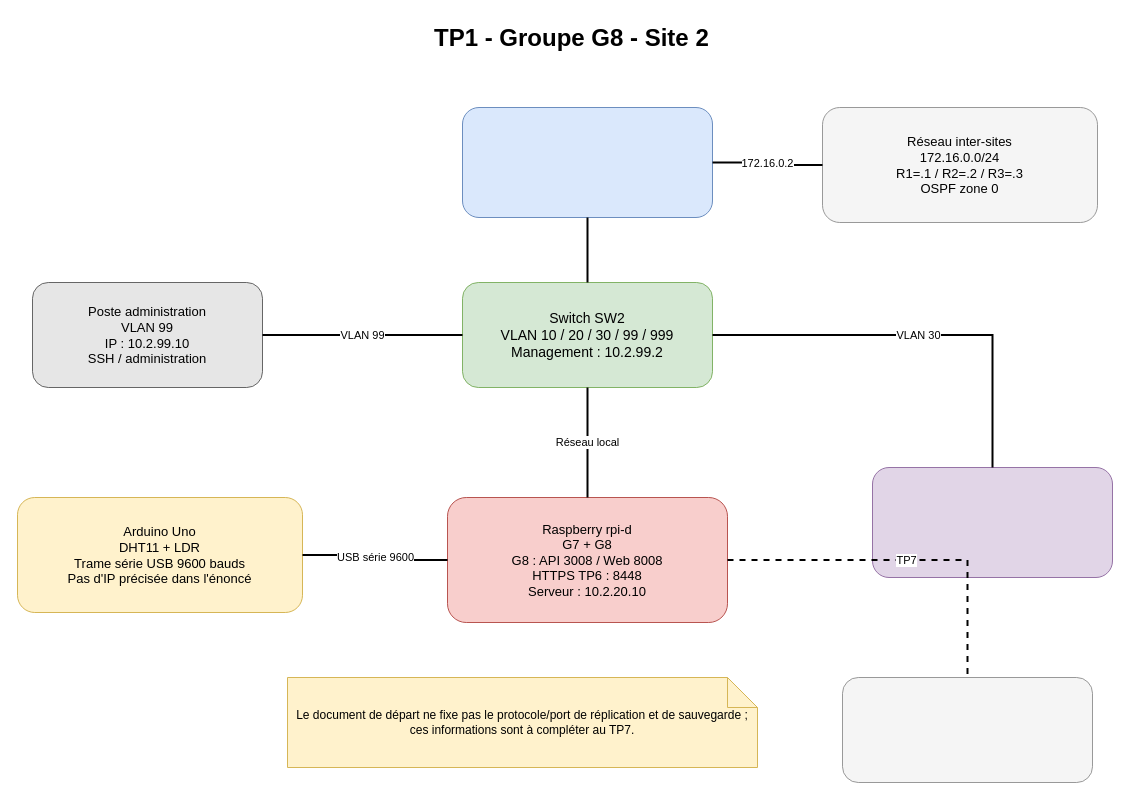
This 1130x800 diagram has some shape labels left out. The centre of each missing label's shape, as x and y in pixels:
"Poste utilisateur VLAN 30 DHCP : 10.2.30.100-199" goes at (x=992, y=522).
"Proxmox VM vm-g8 Réplication + sauvegardes TP7" goes at (x=967, y=729).
"Routeur R2 Passerelles VLAN : .254 Inter-sites : 172.16.0.2 OSPF zone 0" goes at (x=587, y=162).
